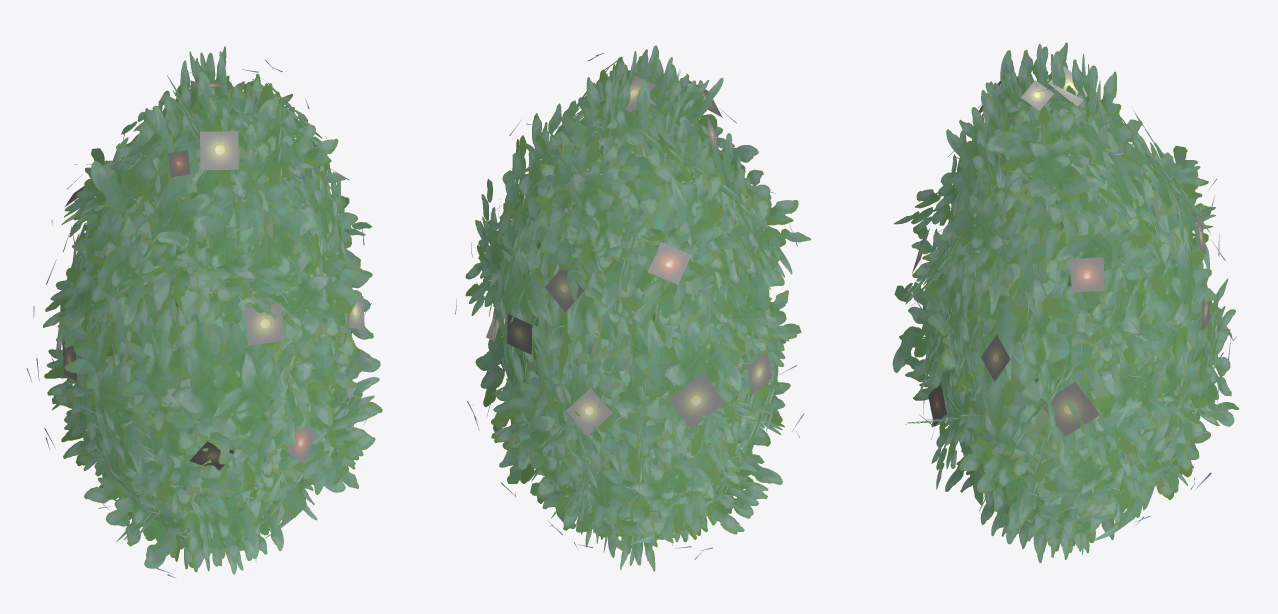
The model's file is pref_sm_beach_winter_techqiutree05_lv3.fbx.
3 renders of one model, left to right at view 1: azimuth 30°, elevation 25°; view 2: azimuth 150°, elevation 25°; view 3: azimuth 270°, elevation 25°, orthographic. The views are drawn at different scales.
Visible parts, largest first — view 1: sm_beach_winter_techqiutree05_lv3, sm_beach_winter_techqiutree05b_lv3; view 2: sm_beach_winter_techqiutree05_lv3, sm_beach_winter_techqiutree05b_lv3; view 3: sm_beach_winter_techqiutree05_lv3, sm_beach_winter_techqiutree05b_lv3.
Boxes of the visible parts, box(x1,y1,x2,y2) form: sm_beach_winter_techqiutree05_lv3: box(26, 46, 382, 578); sm_beach_winter_techqiutree05b_lv3: box(55, 73, 364, 470); sm_beach_winter_techqiutree05_lv3: box(455, 45, 810, 571); sm_beach_winter_techqiutree05b_lv3: box(486, 56, 771, 435); sm_beach_winter_techqiutree05_lv3: box(892, 42, 1239, 562); sm_beach_winter_techqiutree05b_lv3: box(912, 66, 1232, 436).
Bounding box in the file's own units: 3.94 × 5.53 × 3.64.
